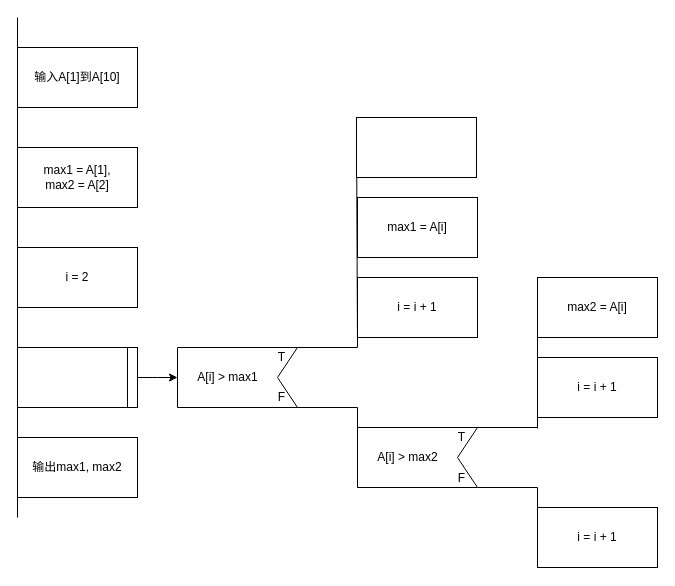
This 675x586 diagram has some shape labels left out. Each missing label, with the box of its shape:
max2 = max1;: (356, 116, 476, 178)
while i <= 10: (16, 346, 138, 408)
